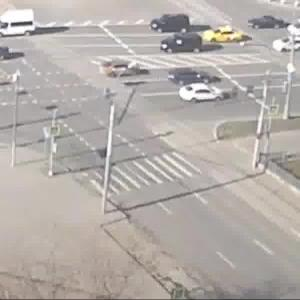car: (92, 59, 159, 85), (158, 32, 206, 56), (1, 9, 37, 38), (200, 23, 247, 45), (179, 83, 229, 100), (151, 13, 195, 32), (244, 13, 289, 30), (169, 71, 215, 83), (275, 38, 300, 57), (1, 39, 15, 62)
